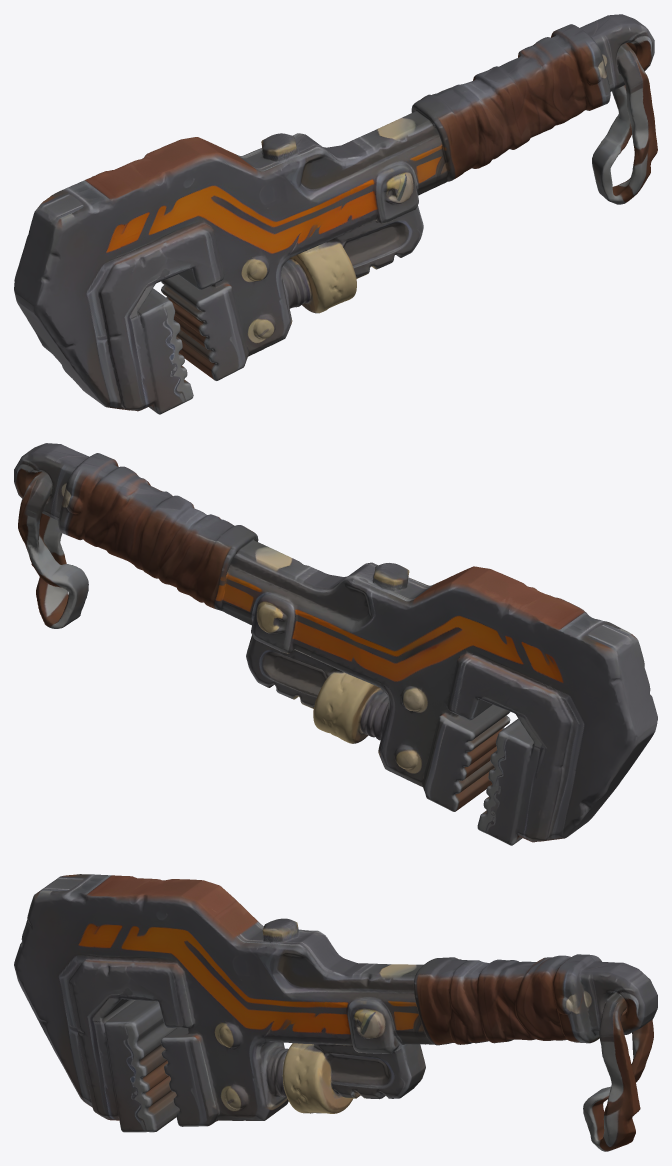
The model's file is melee weapon 3d model.glb.
3 renders of one model, top to bottom at view 1: azimuth 30°, elevation 25°; view 2: azimuth 150°, elevation 25°; view 3: azimuth 330°, elevation 25°, orthographic.
Visible parts, largest first — view 1: tripo_node_36f0555b-32ed-4978-8177-caa8e2e382a4; view 2: tripo_node_36f0555b-32ed-4978-8177-caa8e2e382a4; view 3: tripo_node_36f0555b-32ed-4978-8177-caa8e2e382a4.
Boxes of the visible parts, x1=… form: tripo_node_36f0555b-32ed-4978-8177-caa8e2e382a4: x1=14, y1=14, x2=657, y2=414; tripo_node_36f0555b-32ed-4978-8177-caa8e2e382a4: x1=14, y1=443, x2=657, y2=845; tripo_node_36f0555b-32ed-4978-8177-caa8e2e382a4: x1=14, y1=874, x2=657, y2=1151.
Bounding box in the file's own units: 1 × 0.4081 × 0.1112.
1 material, 1 textured.
